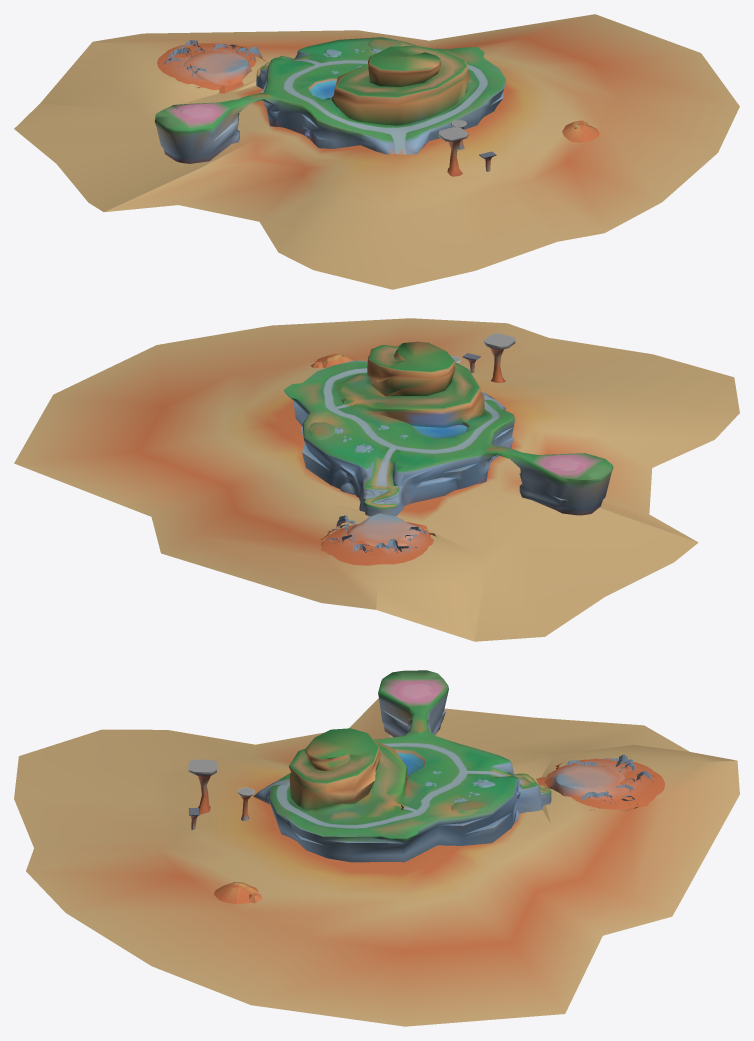
File: ground.glb
3 renders of one model, top to bottom at view 1: azimuth 30°, elevation 25°; view 2: azimuth 150°, elevation 25°; view 3: azimuth 270°, elevation 25°, orthographic. The views are drawn at different scales.
Parts seen in each view (by area): view 1: sand big, Sphere.1, 初始地, sand, tone, sand.1; view 2: sand big, Sphere.1, sand, 初始地, tone; view 3: sand big, Sphere.1, sand, 初始地, tone, sand.1.
Boxes of the visible parts, <box> form: sand big: <box>14,14,739,289</box>; Sphere.1: <box>154,37,506,163</box>; 初始地: <box>183,50,251,85</box>; sand: <box>157,43,256,93</box>; tone: <box>438,127,468,176</box>; sand.1: <box>562,121,599,142</box>; sand big: <box>14,318,739,641</box>; Sphere.1: <box>284,341,613,516</box>; sand: <box>321,521,433,565</box>; 初始地: <box>346,513,422,546</box>; tone: <box>483,333,515,382</box>; sand big: <box>14,698,739,1026</box>; Sphere.1: <box>253,670,551,862</box>; sand: <box>536,758,664,809</box>; 初始地: <box>544,765,627,798</box>; tone: <box>188,759,216,814</box>; sand.1: <box>214,882,258,903</box>.
Bounding box in the file's own units: 485 × 83.07 × 449.
